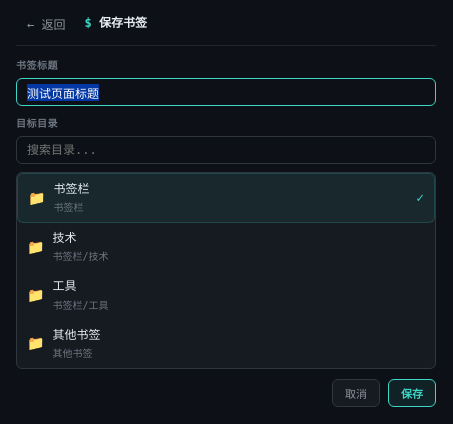
it: FolderPicker › 无匹配搜索应显示空状态
Expected: the 1st text "书签栏" is shown, [54,182,90,196]
Type "不存在的文件夹" into the field with placeholder "搜索目录...".
click(226, 150); type("不存在的文件夹")  # box [16,136,436,164]
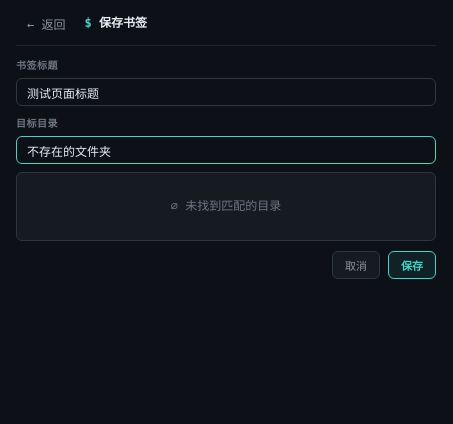
Expected: the text "∅ 未找到匹配的目录" is shown, [171,199,281,213]
